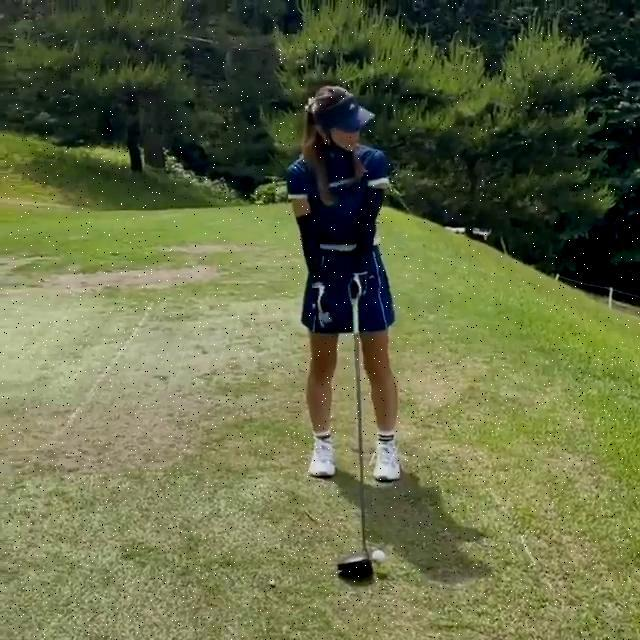ClubHandle: (338, 302, 372, 581)
ClubHead: (339, 552, 373, 581)
GolfBall: (371, 550, 385, 564)
